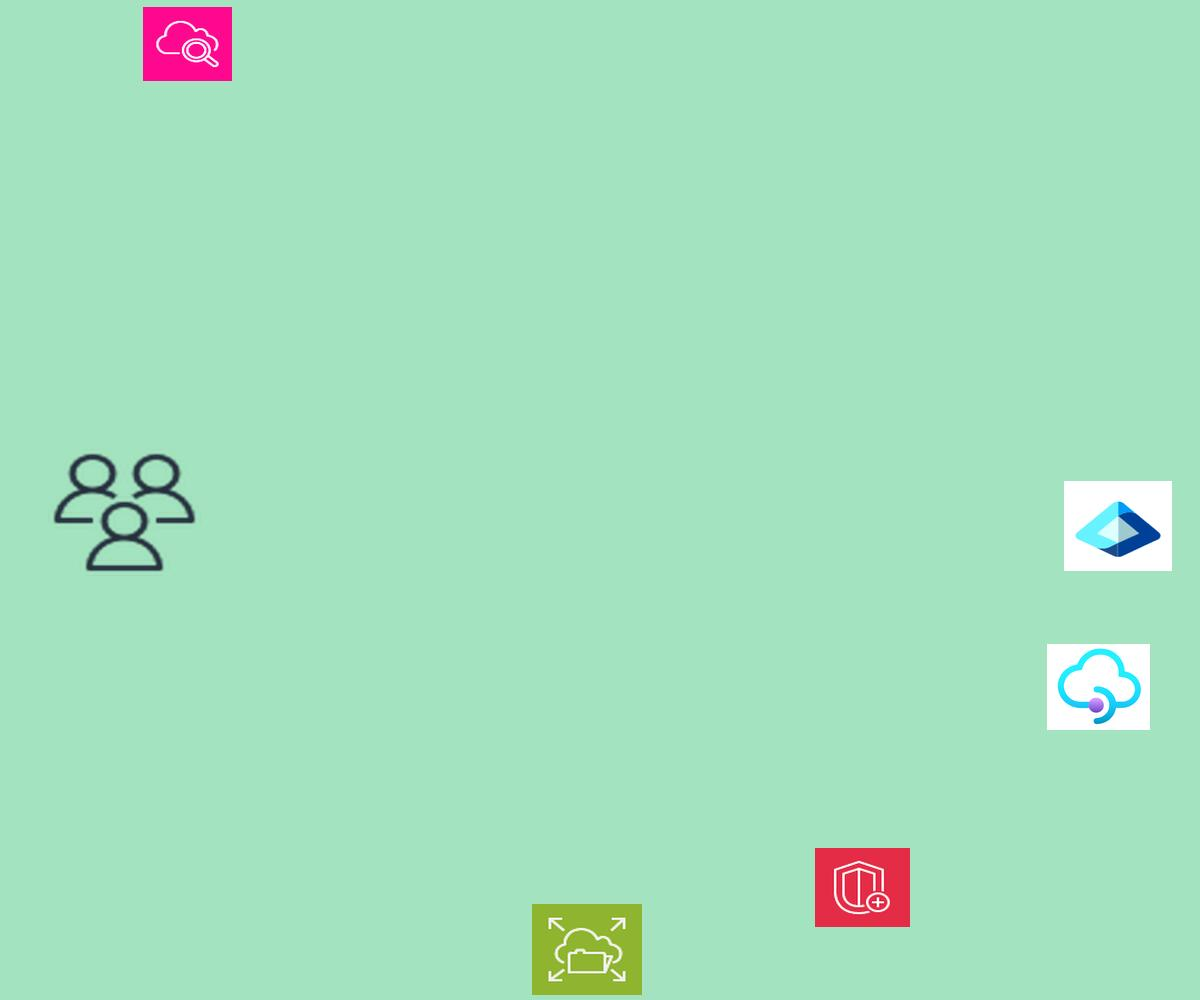AWS-CloudWatch: (143, 7, 232, 81)
AWS-EFS: (532, 904, 642, 995)
AWS-Res_Users: (48, 449, 201, 576)
AWS-Shield: (815, 848, 910, 927)
Azure_api_gateway: (1047, 644, 1150, 730)
Azure_microsoft_entra: (1064, 481, 1172, 571)
